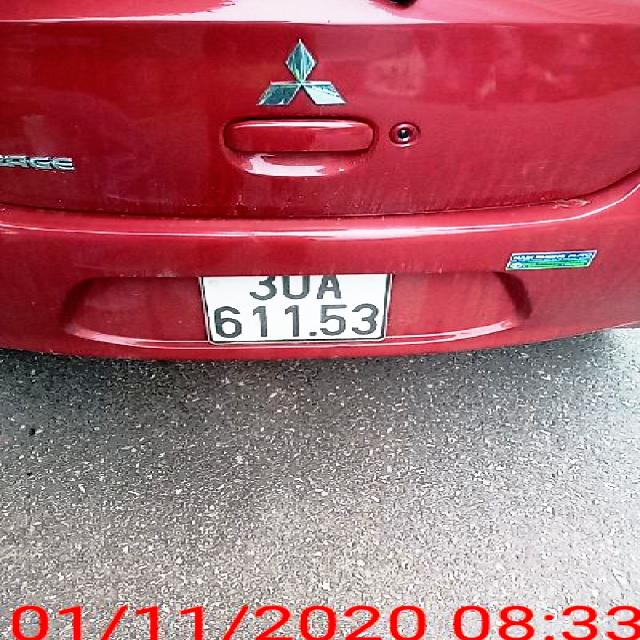license_plate: (208, 275, 391, 346)
